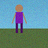person: (12, 4, 26, 33)
